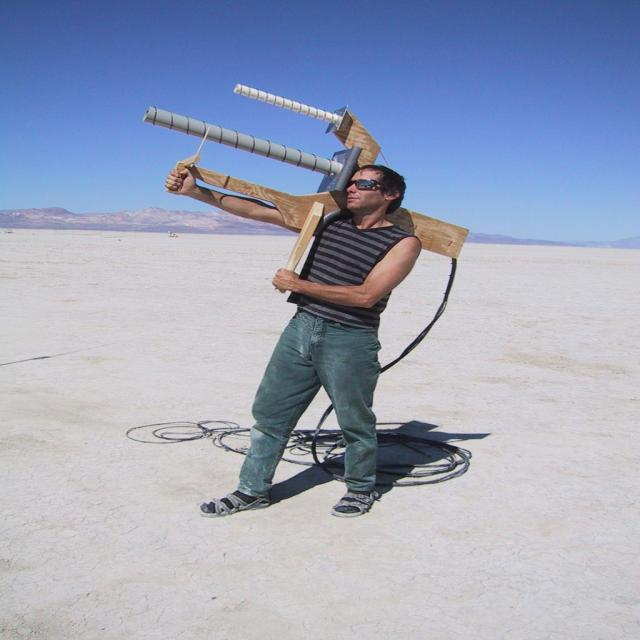Face: (329, 161, 402, 214)
